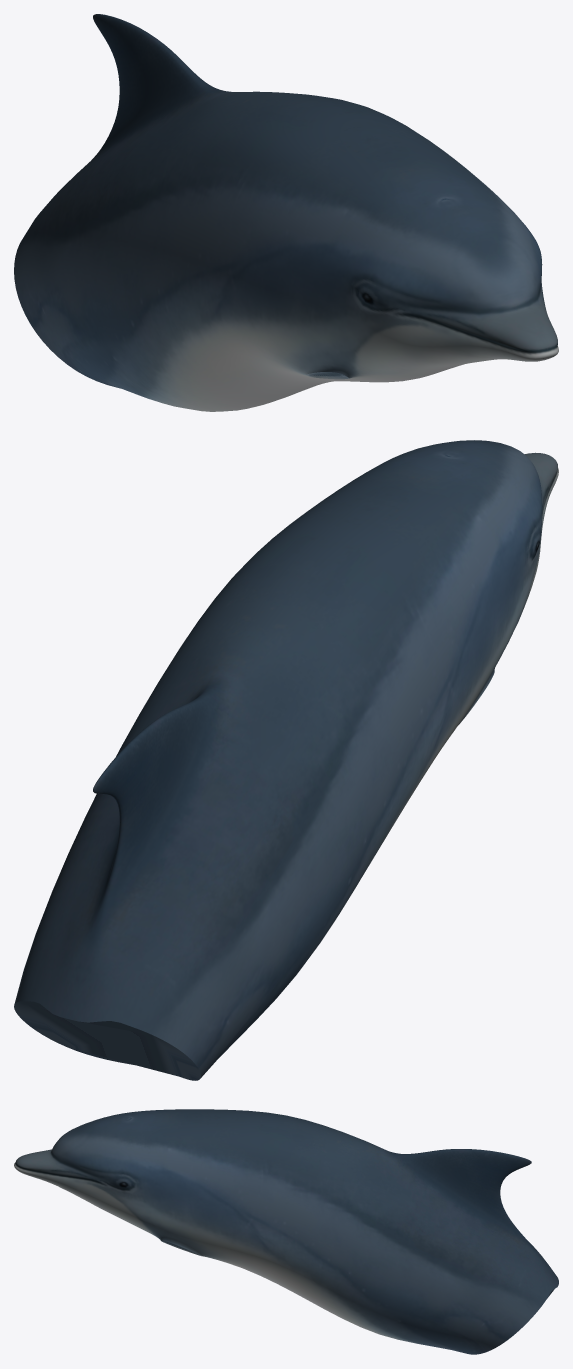
File: CuerpoDelDelfin.obj
3 renders of one model, top to bottom at view 1: azimuth 30°, elevation 25°; view 2: azimuth 150°, elevation 25°; view 3: azimuth 270°, elevation 25°, orthographic. The views are drawn at different scales.
Parts seen in each view (by area): view 1: CuerpoDel; view 2: CuerpoDel; view 3: CuerpoDel.
Boxes of the visible parts, x1=… form: CuerpoDel: x1=14, y1=14, x2=558, y2=411; CuerpoDel: x1=14, y1=440, x2=558, y2=1080; CuerpoDel: x1=14, y1=1109, x2=558, y2=1354.
Size of the model in its own units: 4.26 by 7.29 by 15.63.
Materials: 1 (1 with a texture image).
